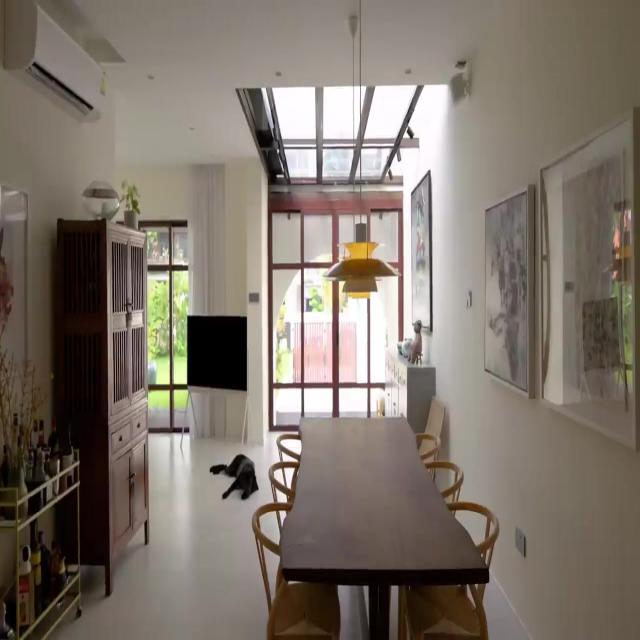obstacle: (278, 414, 490, 638), (53, 217, 149, 596), (0, 451, 82, 639)
